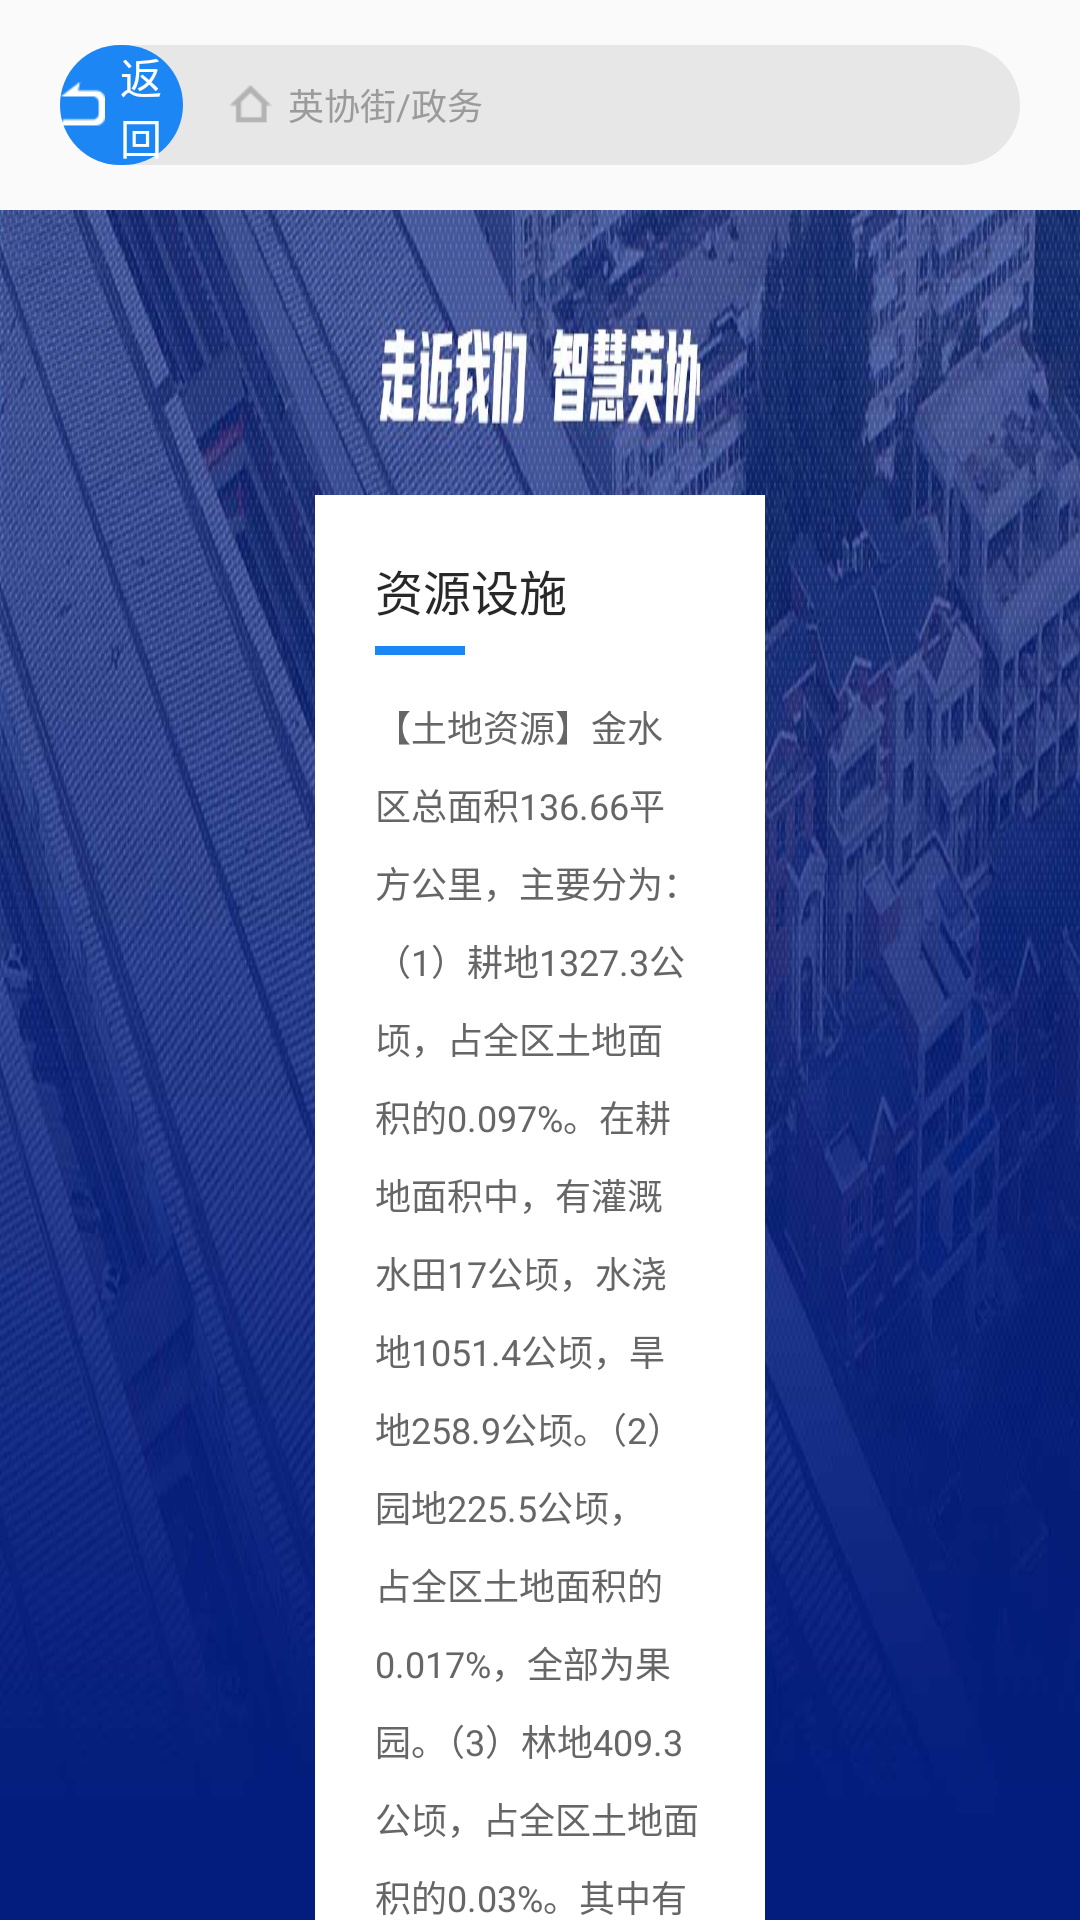

Point at icon controls on the screen. Image size 1080x1920, points as (x=x, y=y).
crumb home: (x=250, y=104)
